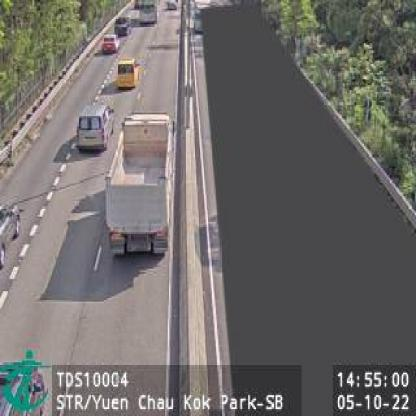Car: (75, 102, 113, 151), (115, 57, 136, 88), (113, 16, 129, 34), (102, 33, 118, 50)
Minibus: (139, 0, 157, 23)
Truck: (104, 113, 172, 253)
